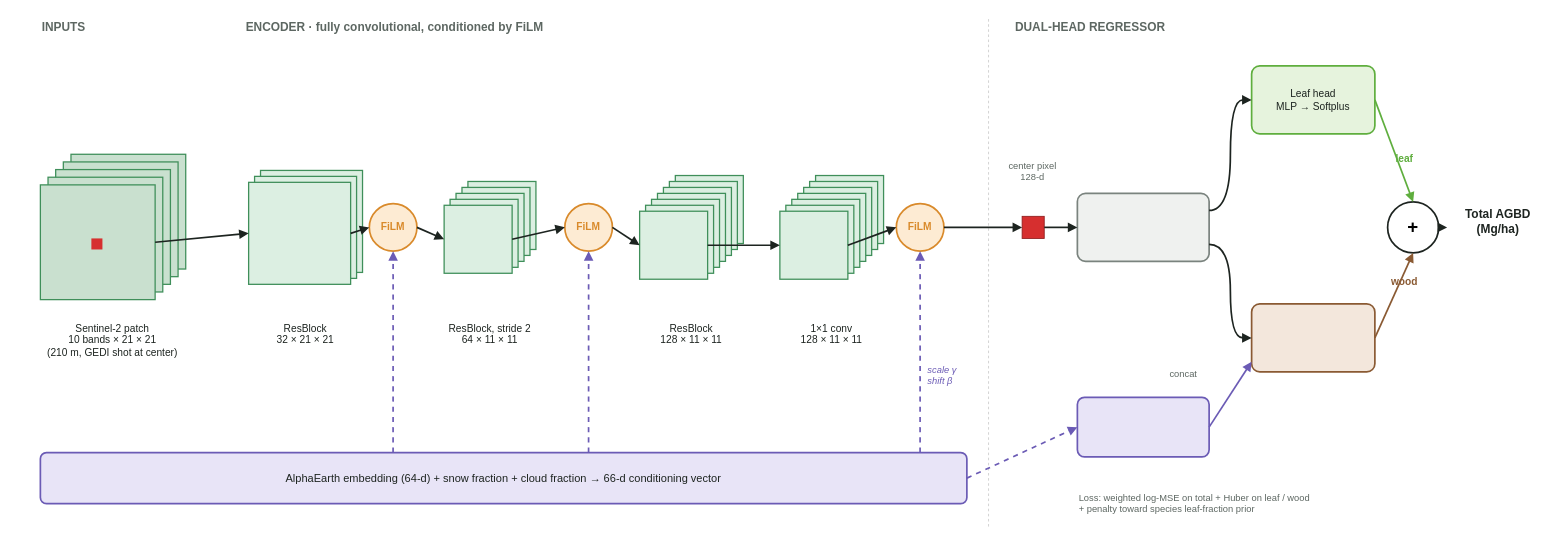
This 1563x547 diagram has some shape labels left out. The centre of each missing label's shape, as x and y in pixels:
"AE projection Linear + ReLU" belongs at point (1143, 426).
"Shared trunk Linear + ReLU" belongs at point (1143, 227).
"Wood head MLP → Softplus" belongs at point (1312, 337).
